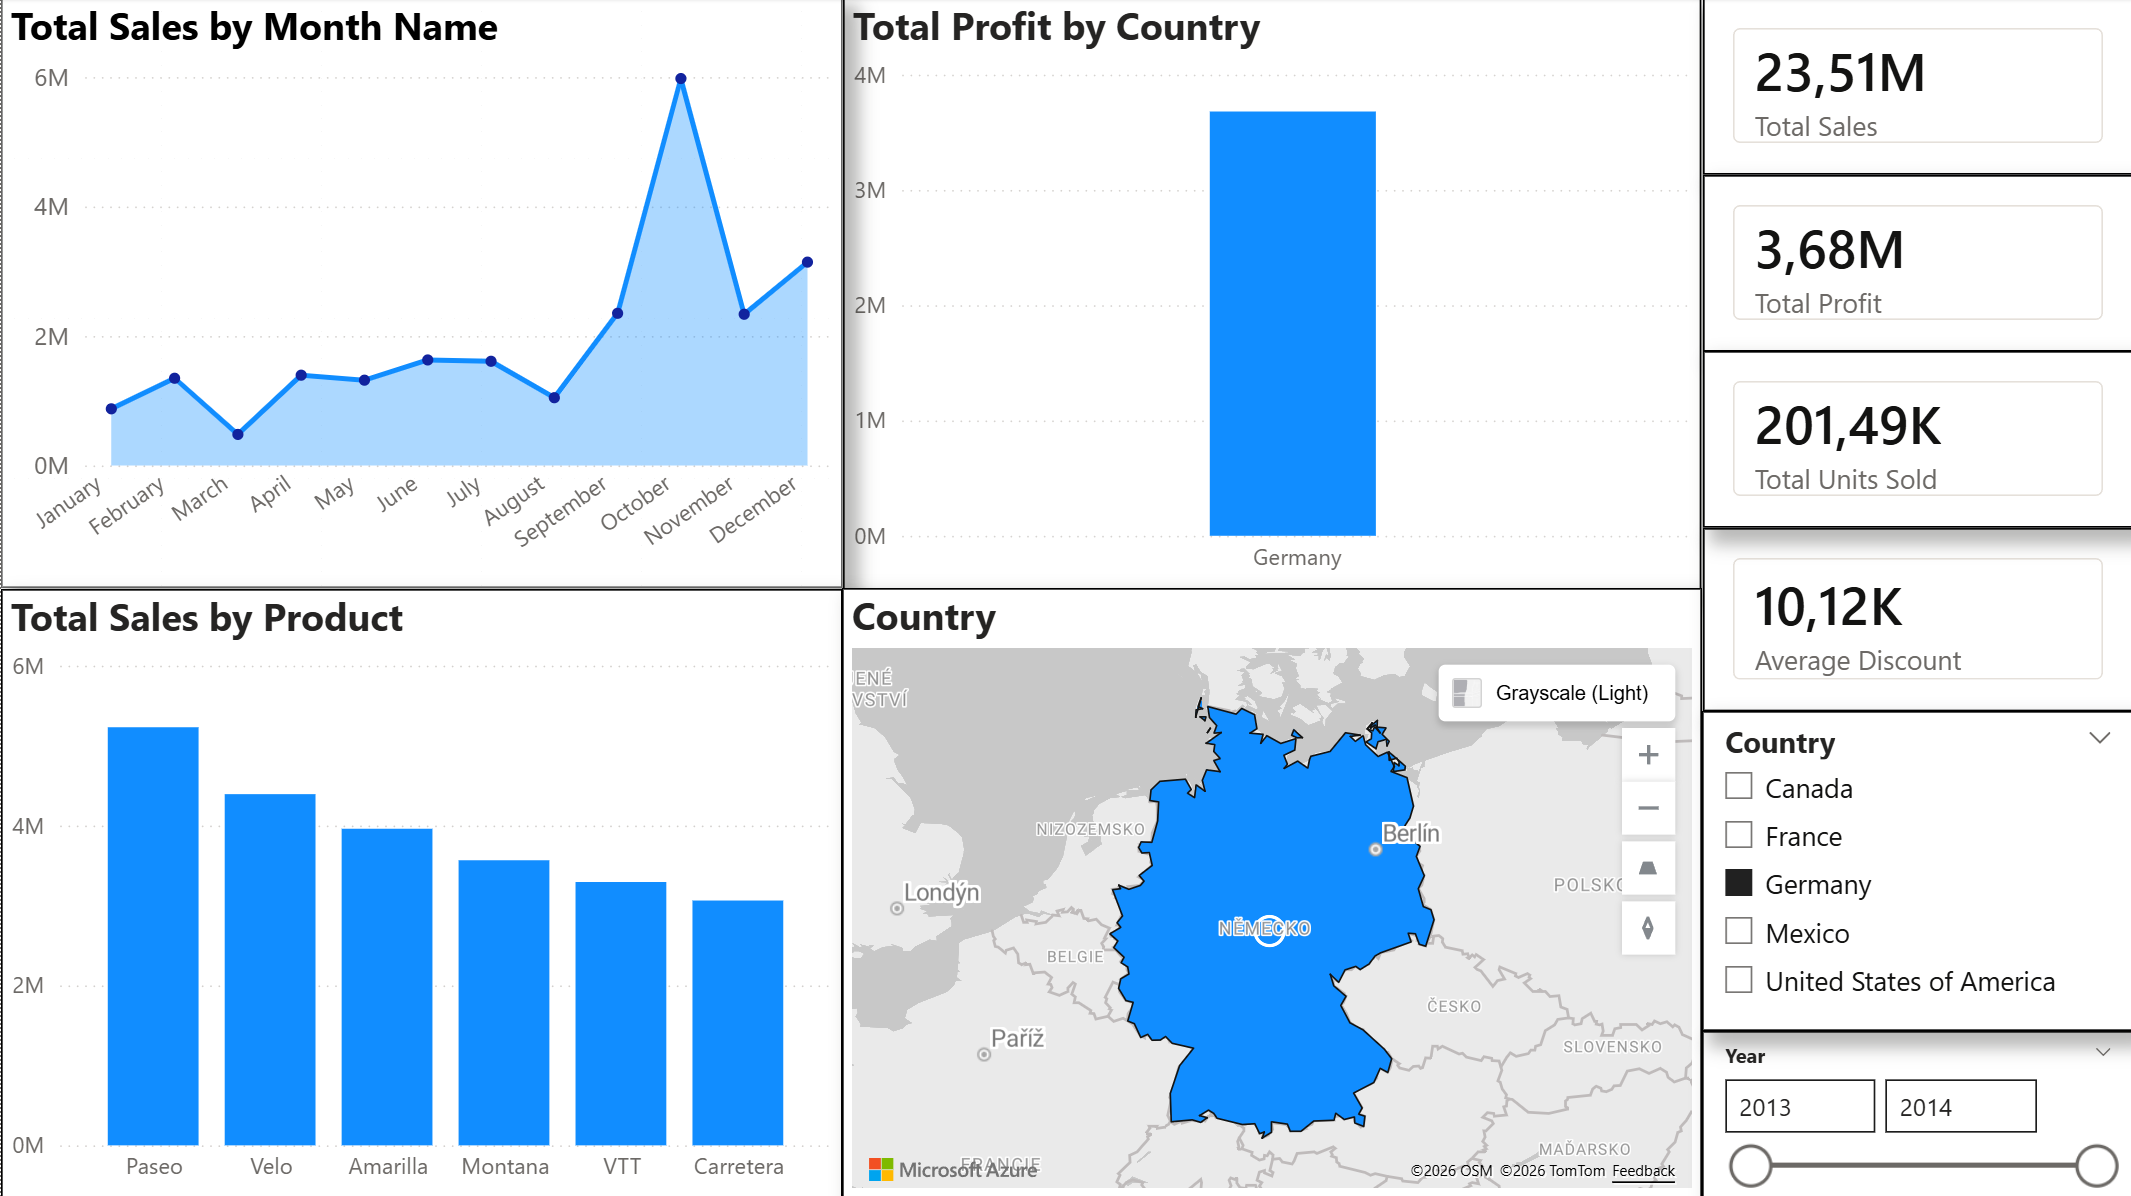

What the dashboard file says about the page in this screenshot:
{"tool":"powerbi","page":{"name":"Sales Overview","canvas":[1280,720],"ordinal":0},"visuals":[{"type":"clusteredColumnChart","fields":{"Y":["financials.Total Profit"],"Category":["financials.Country"]},"box":[505.3,0,515.3,354.7],"z":0},{"type":"lineChart","fields":{"Y":["financials.Total Sales"],"Category":["financials.Month Name"]},"box":[0,0,505.1,354.5],"z":1000},{"type":"clusteredColumnChart","fields":{"Category":["financials.Product"],"Y":["financials.Total Sales"]},"box":[0,354.5,505.1,365.8],"z":2000},{"type":"azureMap","fields":{"Category":["financials.Country"]},"box":[504.5,354.2,515.8,366.1],"z":3000},{"type":"cardVisual","fields":{"Data":["financials.Total Sales"]},"box":[1021.5,0,258.5,105.9],"z":4000},{"type":"cardVisual","fields":{"Data":["financials.Average Discount"]},"box":[1021.5,317.8,258.5,109.9],"z":5000},{"type":"cardVisual","fields":{"Data":["financials.Total Profit"]},"box":[1021.5,105.9,258.5,105.9],"z":6000},{"type":"cardVisual","fields":{"Data":["financials.Total Units Sold"]},"box":[1021.5,211.9,258.5,105.9],"z":7000},{"type":"slicer","fields":{"Values":["financials.Year"]},"box":[1020.8,619.7,259.2,100.6],"z":8000},{"type":"slicer","fields":{"Values":["financials.Country"]},"box":[1020.8,427.8,259.2,191.9],"z":9000}]}

Visuals, with their boxes in screenshot pixels (x1, y1, x2, y2), scaled from the page's 1280x720 canvas onto the 2131x1196 screenshot:
clusteredColumnChart - financials.Total Profit x financials.Country: 841:0:1699:589
lineChart - financials.Total Sales x financials.Month Name: 0:0:841:589
clusteredColumnChart - financials.Product x financials.Total Sales: 0:589:841:1195
azureMap - financials.Country: 840:588:1699:1195
cardVisual - financials.Total Sales: 1701:0:2130:176
cardVisual - financials.Average Discount: 1701:528:2130:710
cardVisual - financials.Total Profit: 1701:176:2130:352
cardVisual - financials.Total Units Sold: 1701:352:2130:528
slicer - financials.Year: 1699:1029:2130:1195
slicer - financials.Country: 1699:711:2130:1029
